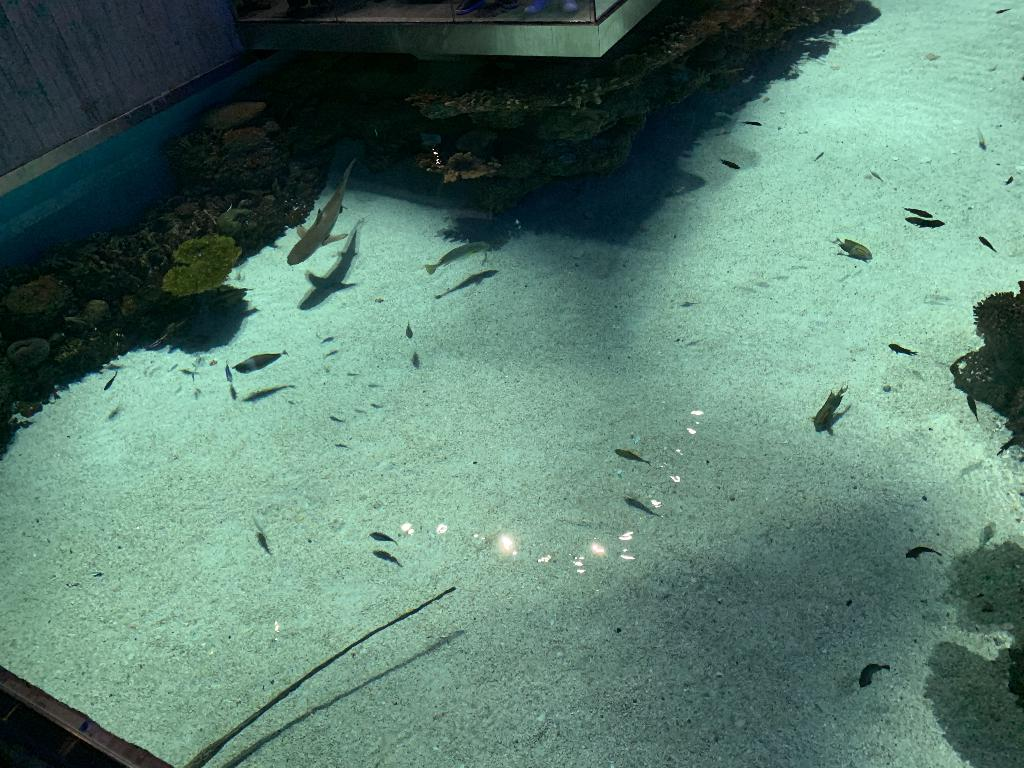fish: (423, 239, 491, 275), (812, 384, 850, 434), (230, 348, 288, 374), (856, 659, 892, 691), (832, 236, 872, 260), (614, 444, 650, 468), (904, 542, 944, 562), (902, 202, 934, 220), (368, 528, 396, 548), (886, 340, 916, 358), (255, 528, 271, 556), (102, 370, 122, 392), (978, 235, 996, 255), (964, 390, 978, 414), (719, 156, 741, 170), (404, 320, 414, 340), (742, 118, 762, 128), (976, 128, 984, 148)
shark: (286, 156, 362, 266)
